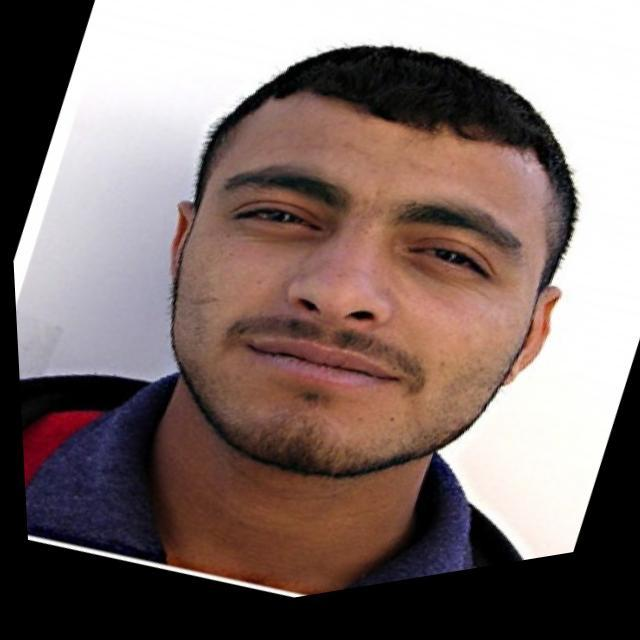Nonhelmet: (172, 38, 562, 478)
